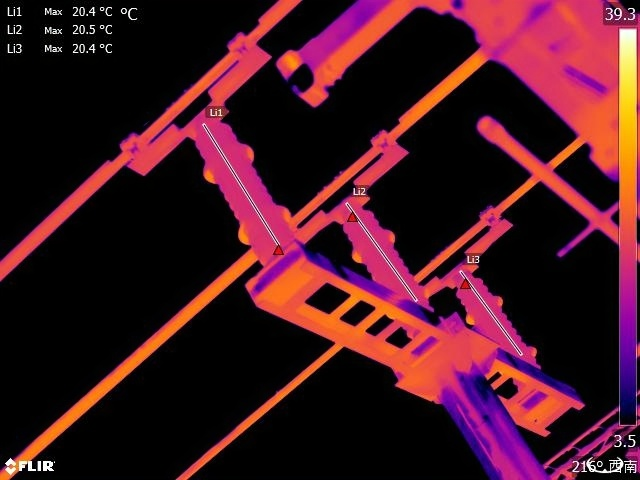post insulator: (198, 108, 310, 259), (334, 194, 426, 316), (453, 265, 540, 369)
